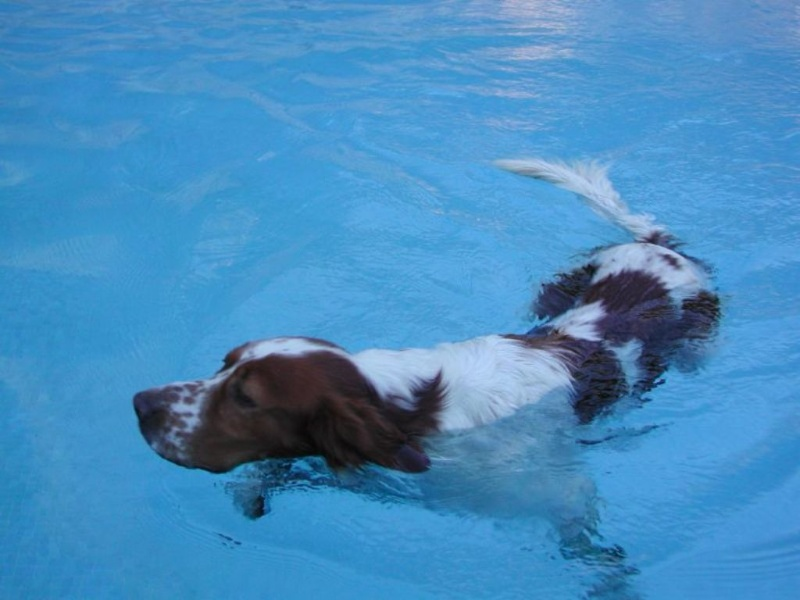dog: (125, 151, 746, 525)
